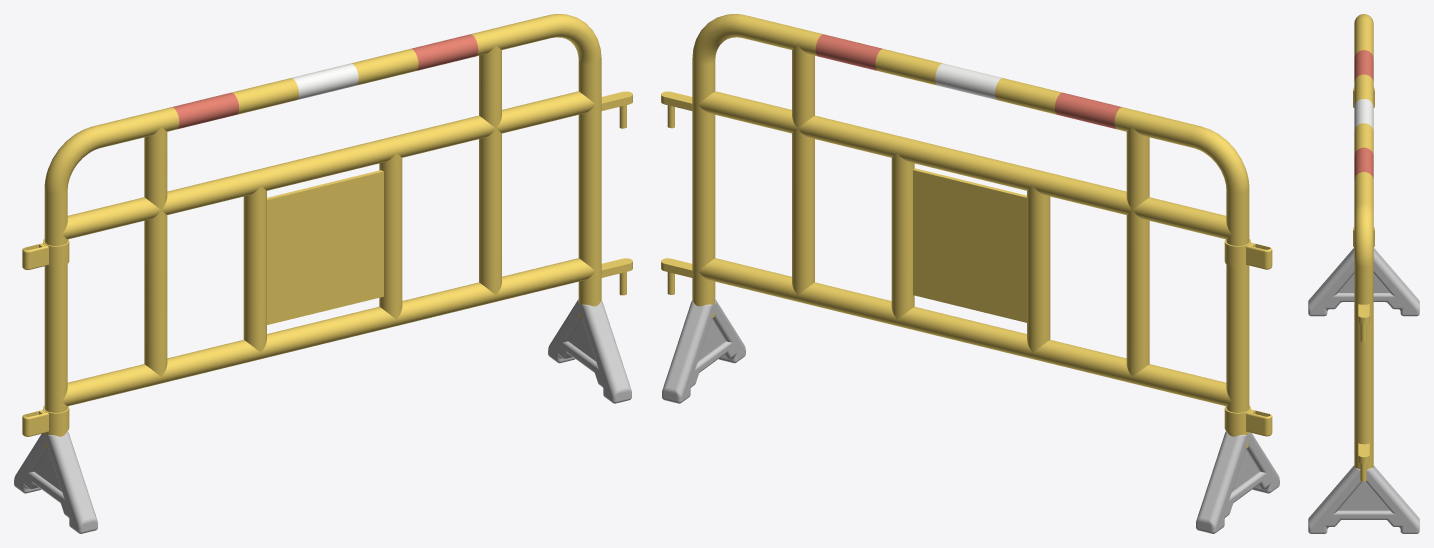
Rendered from RoadBlock.fbx.
3 renders of one model, left to right at view 1: azimuth 30°, elevation 25°; view 2: azimuth 150°, elevation 25°; view 3: azimuth 270°, elevation 25°, orthographic. The views are drawn at different scales.
Visible parts, largest first — view 1: Body36; view 2: Body36; view 3: Body36.
Boxes of the visible parts, x1,y1,x2,y2 form: Body36: (14, 14, 632, 533); Body36: (661, 14, 1279, 533); Body36: (1308, 14, 1419, 533).
Size of the model in its own units: 336 by 196 by 63.8.
